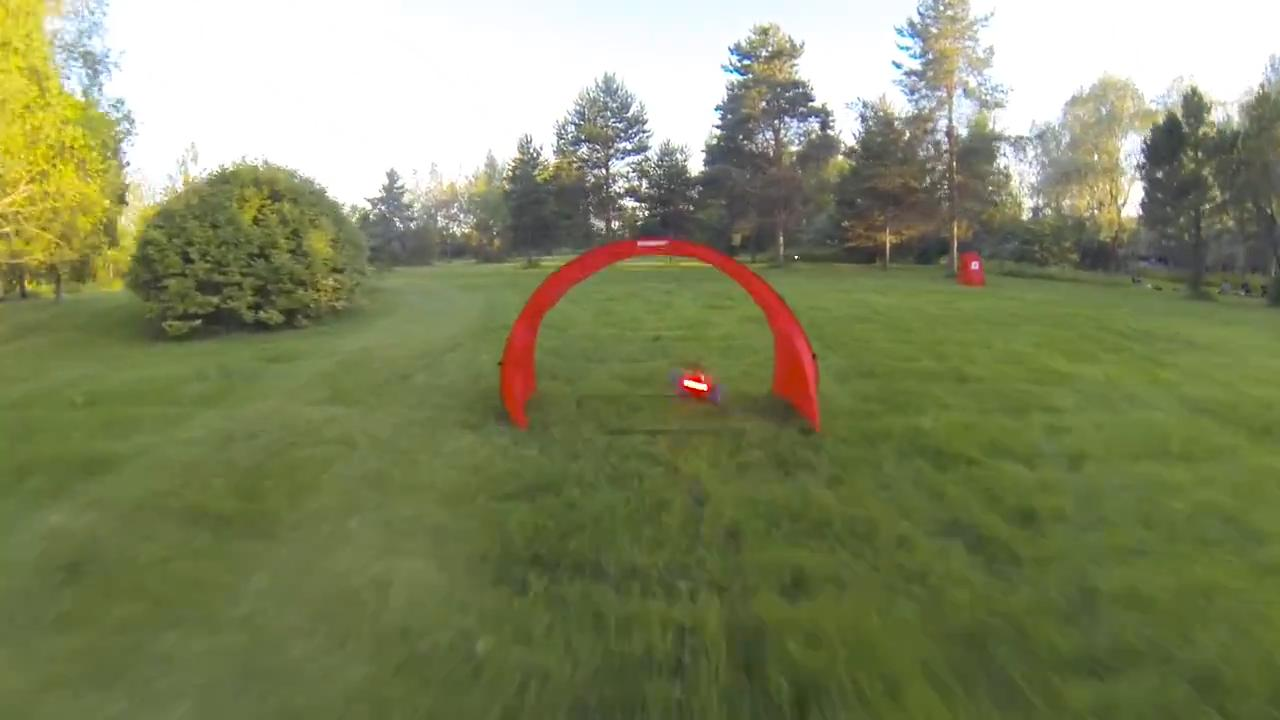gate: (495, 231, 824, 427)
